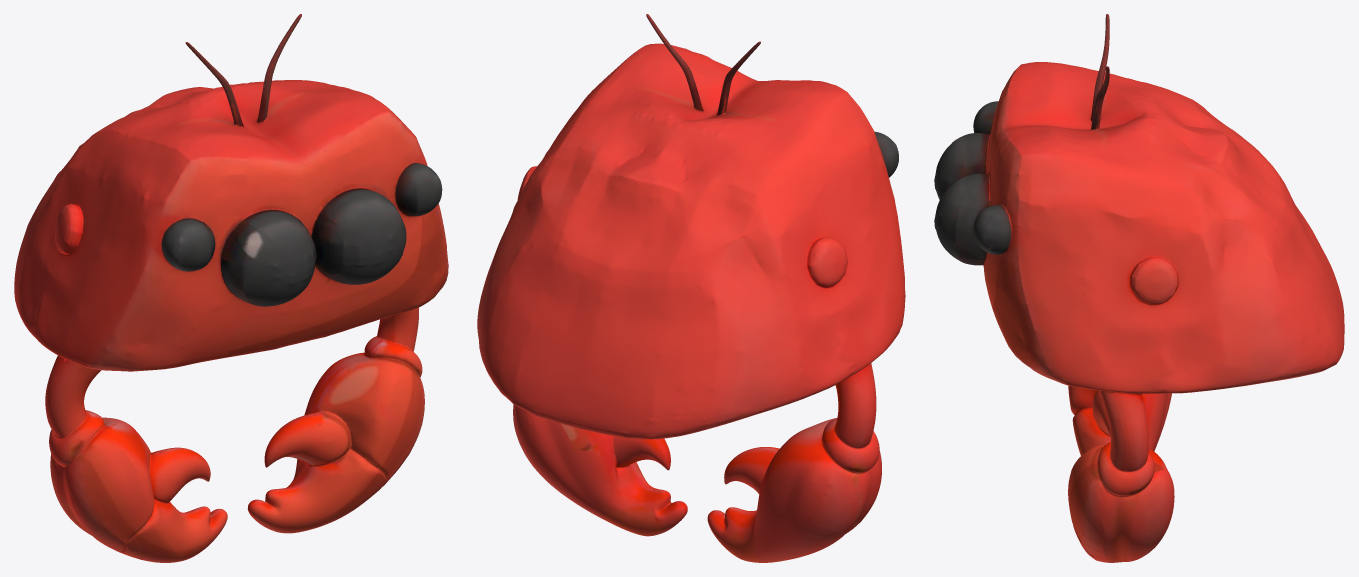
The model's file is molty.glb.glb.
3 views of the same model, side by side, from view 1: azimuth 30°, elevation 25°; view 2: azimuth 150°, elevation 25°; view 3: azimuth 270°, elevation 25° (orthographic). The views are drawn at different scales.
Visible parts, largest first — view 1: Mesh_0; view 2: Mesh_0; view 3: Mesh_0.
Part boxes in pixels (x1,y1,x2,y2): Mesh_0: (14, 14, 448, 562); Mesh_0: (477, 14, 905, 562); Mesh_0: (934, 14, 1344, 562).
Bounding box in the file's own units: 1.48 × 2 × 1.52.
Materials: 1 (1 with a texture image).
